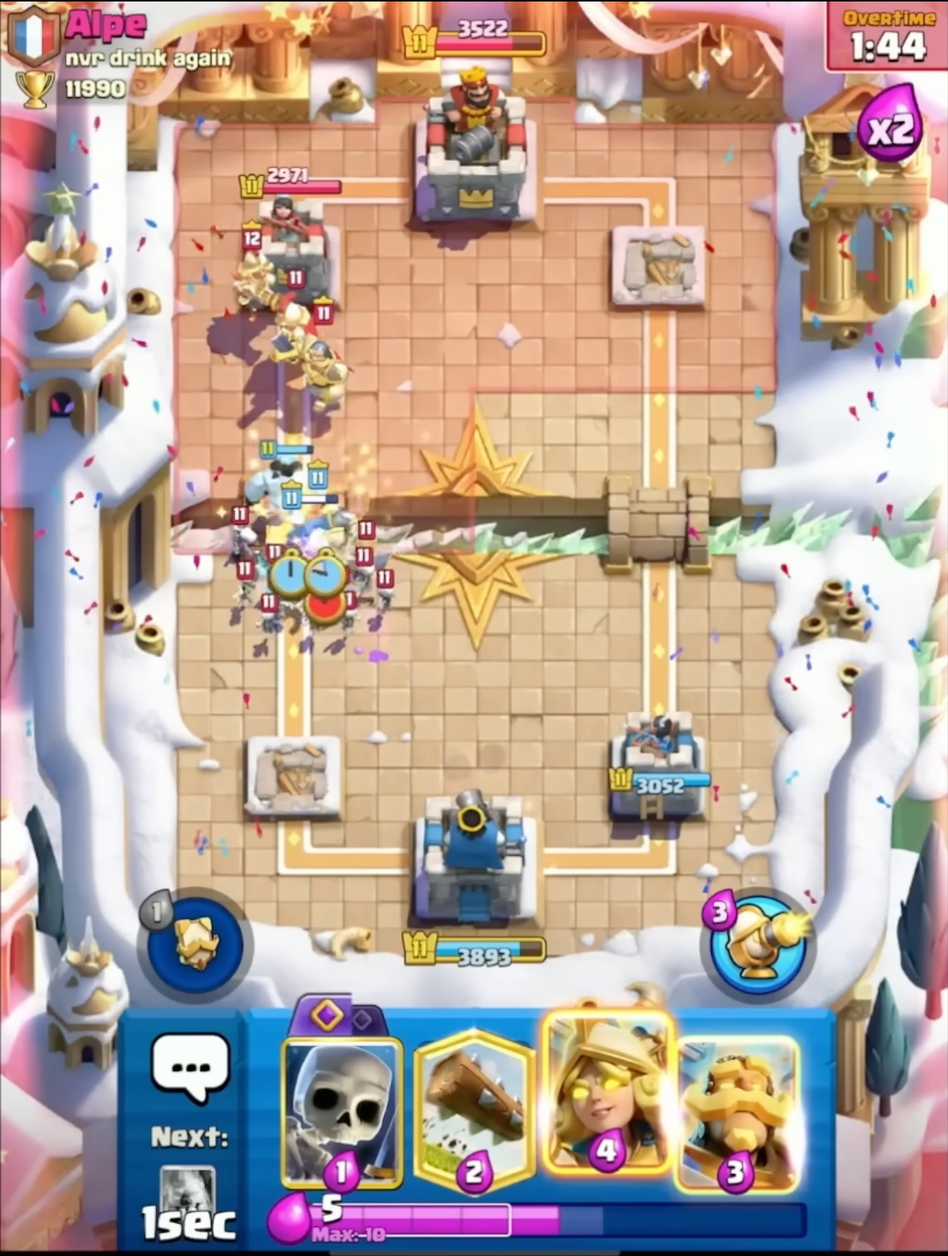hero-knight: (297, 295, 354, 422)
hero-musketeer: (264, 267, 321, 402), (227, 215, 285, 327)
skeleton: (257, 589, 288, 645), (332, 582, 363, 638), (259, 535, 290, 591), (227, 504, 257, 560), (231, 550, 261, 606), (352, 509, 382, 565), (374, 562, 404, 618), (350, 539, 380, 595)
